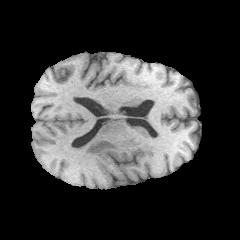glioma: (77, 139, 116, 164)
